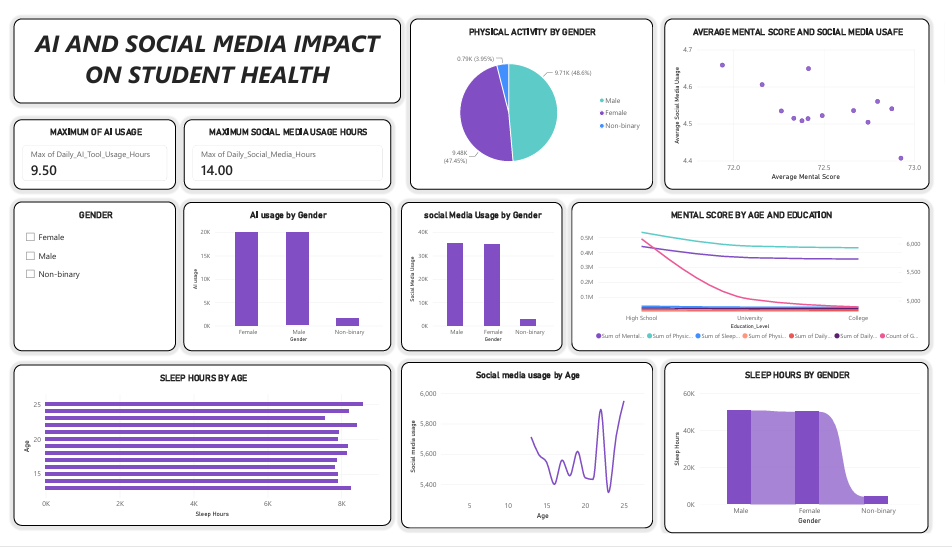

This screenshot's page, from the dashboard's own definition file:
{"tool":"powerbi","page":{"name":"Page 1","canvas":[1920,1080],"ordinal":0},"visuals":[{"type":"columnChart","title":"AI usage by Gender","fields":{"Y":["Sum(AI_SocialMedia_Student_Dataset.Daily_AI_Tool_Usage_Hours)"],"Category":["AI_SocialMedia_Student_Dataset.Gender"]},"box":[365,402.5,425,305],"z":0},{"type":"columnChart","title":"social Media Usage by Gender","fields":{"Y":["Sum(AI_SocialMedia_Student_Dataset.Daily_Social_Media_Hours)"],"Category":["AI_SocialMedia_Student_Dataset.Gender"]},"box":[810,402.5,330,305],"z":1000},{"type":"lineChart","title":"Social media usage by Age","fields":{"Y":["Sum(AI_SocialMedia_Student_Dataset.Daily_Social_Media_Hours)"],"Category":["AI_SocialMedia_Student_Dataset.Age"]},"box":[810,730,515,340],"z":2000},{"type":"scatterChart","title":"AVERAGE MENTAL SCORE AND SOCIAL MEDIA USAFE","fields":{"X":["Avg(AI_SocialMedia_Student_Dataset.Mental_Health_Score)"],"Y":["Avg(AI_SocialMedia_Student_Dataset.Daily_Social_Media_Hours)"],"Category":["AI_SocialMedia_Student_Dataset.Age"]},"box":[1347.5,27.5,542.5,350],"z":3000},{"type":"clusteredBarChart","title":"SLEEP HOURS BY AGE","fields":{"Y":["Sum(AI_SocialMedia_Student_Dataset.Sleep_Hours)"],"Category":["AI_SocialMedia_Student_Dataset.Age"]},"box":[17.5,735,772.5,330],"z":4000},{"type":"pieChart","title":"PHYSICAL ACTIVITY BY GENDER","fields":{"Category":["AI_SocialMedia_Student_Dataset.Gender"],"Y":["Sum(AI_SocialMedia_Student_Dataset.Physical_Activity_Hours)"]},"box":[827.5,27.5,497.5,350],"z":5000},{"type":"ribbonChart","title":"SLEEP HOURS BY GENDER","fields":{"Category":["AI_SocialMedia_Student_Dataset.Gender"],"Y":["Sum(AI_SocialMedia_Student_Dataset.Sleep_Hours)"]},"box":[1347.5,730,540,350],"z":6000},{"type":"lineChart","title":"MENTAL SCORE BY AGE AND EDUCATION","fields":{"Category":["AI_SocialMedia_Student_Dataset.Education_Level"],"Y":["Sum(AI_SocialMedia_Student_Dataset.Mental_Health_Score)","Sum(AI_SocialMedia_Student_Dataset.Physical_Health_Score)","Sum(AI_SocialMedia_Student_Dataset.Sleep_Hours)","Sum(AI_SocialMedia_Student_Dataset.Physical_Activity_Hours)","Sum(AI_SocialMedia_Student_Dataset.Daily_AI_Tool_Usage_Hours)","Sum(AI_SocialMedia_Student_Dataset.Daily_Social_Media_Hours)"],"Y2":["CountNonNull(AI_SocialMedia_Student_Dataset.Gender)"]},"box":[1157.5,402.5,732.5,305],"z":7000},{"type":"slicer","title":"GENDER","fields":{"Values":["AI_SocialMedia_Student_Dataset.Gender"]},"box":[18,402,332,306],"z":7001},{"type":"cardVisual","title":"MAXIMUM SOCIAL MEDIA USAGE HOURS","fields":{"Data":["Max(AI_SocialMedia_Student_Dataset.Daily_Social_Media_Hours)"]},"box":[366,234,424,144],"z":7004},{"type":"cardVisual","title":"MAXIMUM OF AI USAGE","fields":{"Data":["Max(AI_SocialMedia_Student_Dataset.Daily_AI_Tool_Usage_Hours)"]},"box":[18,234,332,144],"z":7005},{"type":"textbox","box":[18,28,792,174],"z":7006}]}

Visuals, with their boxes in screenshot pixels (x1, y1, x2, y2), scaled from the page's 1920x1080 canvas onto the 952x547 screenshot:
"AI usage by Gender" columnChart: select_region(181, 204, 392, 358)
"social Media Usage by Gender" columnChart: select_region(402, 204, 565, 358)
"Social media usage by Age" lineChart: select_region(402, 370, 657, 542)
"AVERAGE MENTAL SCORE AND SOCIAL MEDIA USAFE" scatterChart: select_region(668, 14, 937, 191)
"SLEEP HOURS BY AGE" clusteredBarChart: select_region(9, 372, 392, 539)
"PHYSICAL ACTIVITY BY GENDER" pieChart: select_region(410, 14, 657, 191)
"SLEEP HOURS BY GENDER" ribbonChart: select_region(668, 370, 936, 546)
"MENTAL SCORE BY AGE AND EDUCATION" lineChart: select_region(574, 204, 937, 358)
"GENDER" slicer: select_region(9, 204, 174, 359)
"MAXIMUM SOCIAL MEDIA USAGE HOURS" cardVisual: select_region(181, 119, 392, 191)
"MAXIMUM OF AI USAGE" cardVisual: select_region(9, 119, 174, 191)
textbox: select_region(9, 14, 402, 102)
